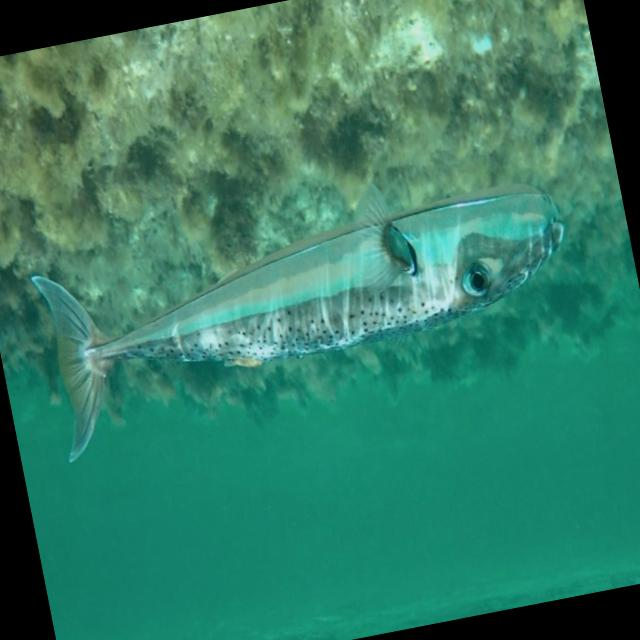Balon Baligi: (23, 148, 591, 466)
